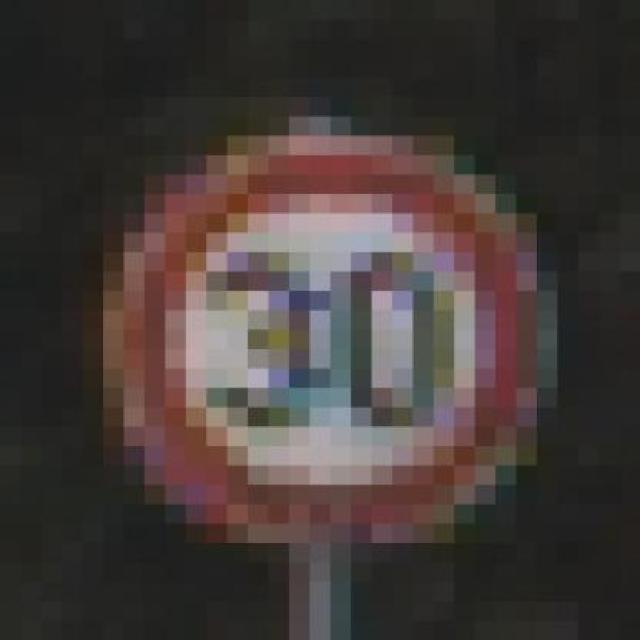forb_speed_over_30: (116, 142, 536, 536)
